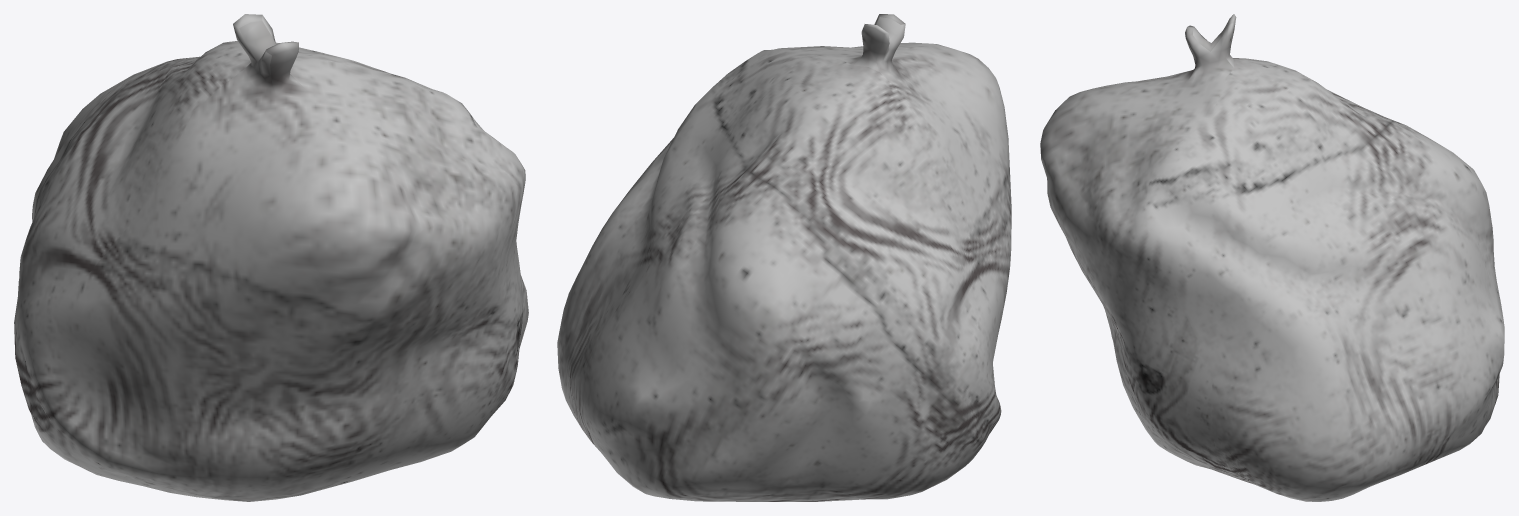
File: SM_Trashbag05.fbx
3 views of the same model, side by side, from view 1: azimuth 30°, elevation 25°; view 2: azimuth 150°, elevation 25°; view 3: azimuth 270°, elevation 25° (orthographic). The views are drawn at different scales.
Visible parts, largest first — view 1: SM_Trashbag05_LOD0; view 2: SM_Trashbag05_LOD0; view 3: SM_Trashbag05_LOD0.
Boxes of the visible parts, x1,y1,x2,y2 form: SM_Trashbag05_LOD0: (14, 14, 528, 501); SM_Trashbag05_LOD0: (557, 14, 1011, 501); SM_Trashbag05_LOD0: (1040, 14, 1504, 501).
Size of the model in its own units: 25.39 by 26.01 by 24.76.
Materials: 1 (1 with a texture image).
